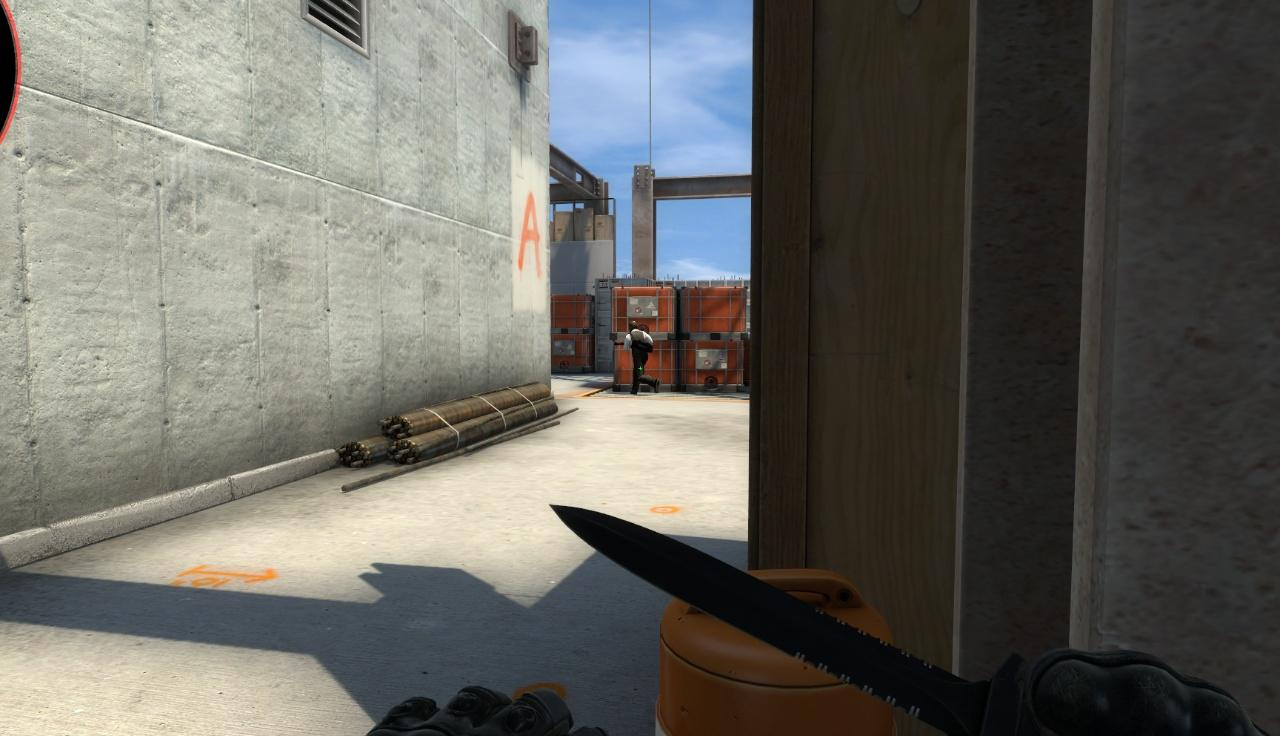tt: (626, 321, 653, 395)
tthead: (627, 321, 637, 330)
